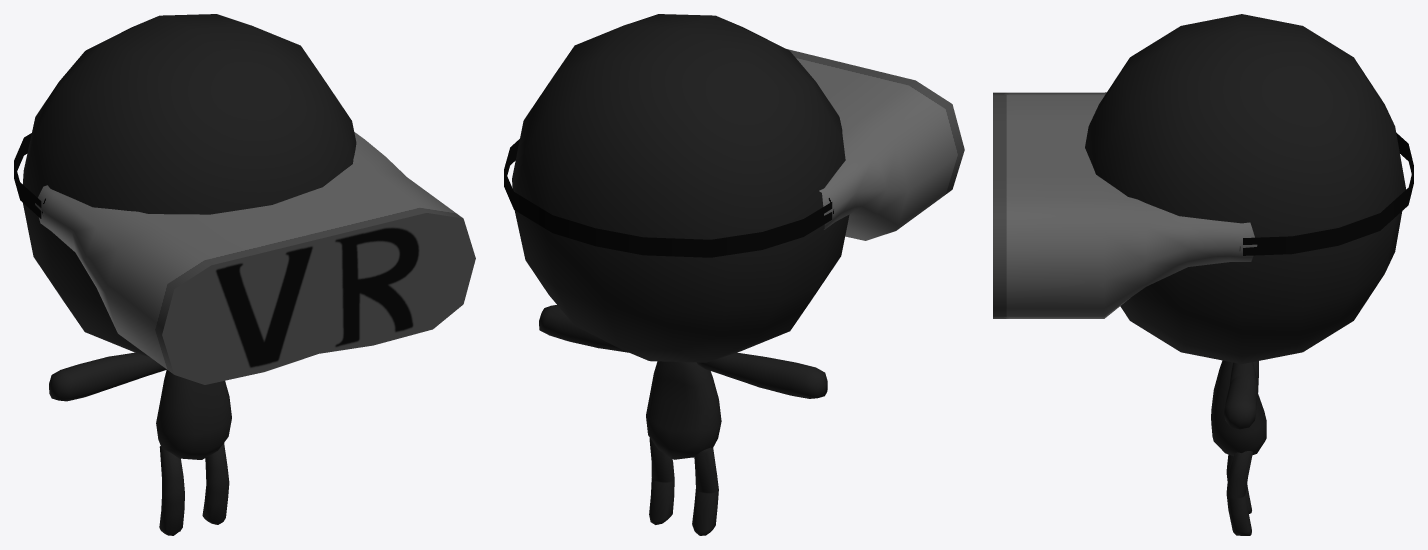
Rendered from player_CHA.fbx.
3 renders of one model, left to right at view 1: azimuth 30°, elevation 25°; view 2: azimuth 150°, elevation 25°; view 3: azimuth 270°, elevation 25°, orthographic.
Visible parts, largest first — view 1: VR_MESH, CHA_head_MESH, CHA_body_MESH; view 2: CHA_head_MESH, VR_MESH, CHA_body_MESH; view 3: CHA_head_MESH, VR_MESH, CHA_body_MESH.
Boxes of the visible parts, x1=… form: VR_MESH: x1=14, y1=132, x2=475, y2=384; CHA_head_MESH: x1=22, y1=14, x2=356, y2=357; CHA_body_MESH: x1=49, y1=352, x2=231, y2=535; CHA_head_MESH: x1=512, y1=14, x2=849, y2=362; VR_MESH: x1=504, y1=49, x2=964, y2=257; CHA_body_MESH: x1=539, y1=305, x2=827, y2=535; CHA_head_MESH: x1=1085, y1=14, x2=1405, y2=364; VR_MESH: x1=993, y1=92, x2=1413, y2=318; CHA_body_MESH: x1=1211, y1=360, x2=1266, y2=535.
Bounding box in the file's own units: 120 × 183 × 142.
Materials: 2 (1 with a texture image).
